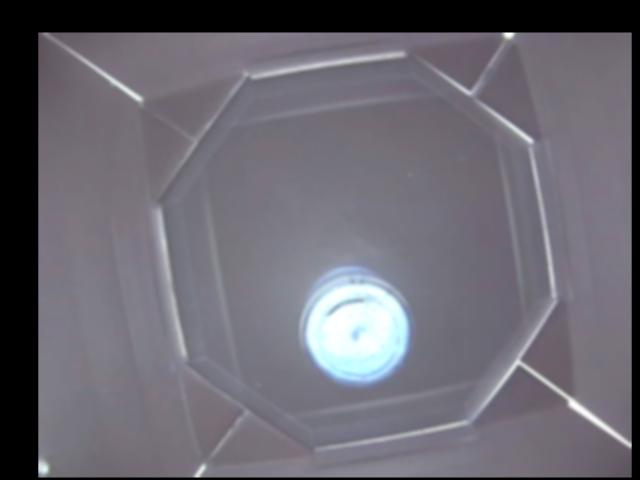Bottle: (298, 267, 414, 385)
